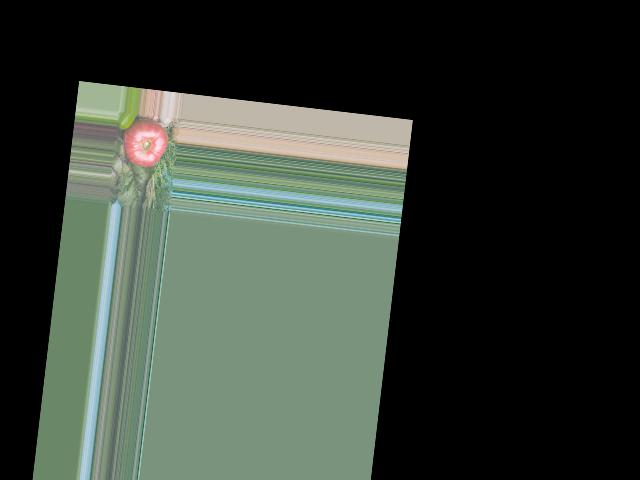tomato: (119, 115, 170, 168)
